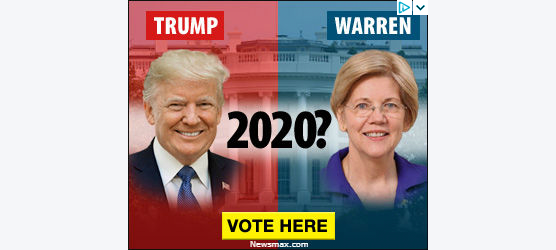fake_button: (218, 196, 343, 250)
